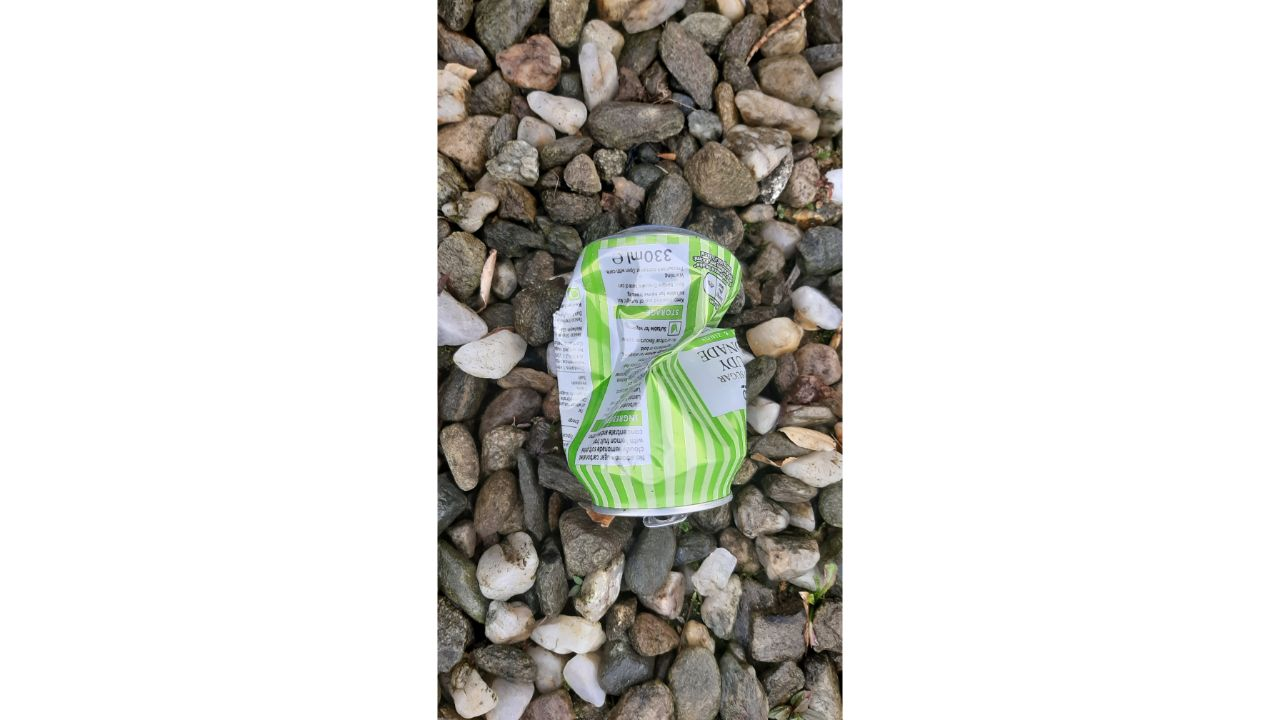Can: (551, 225, 750, 520)
